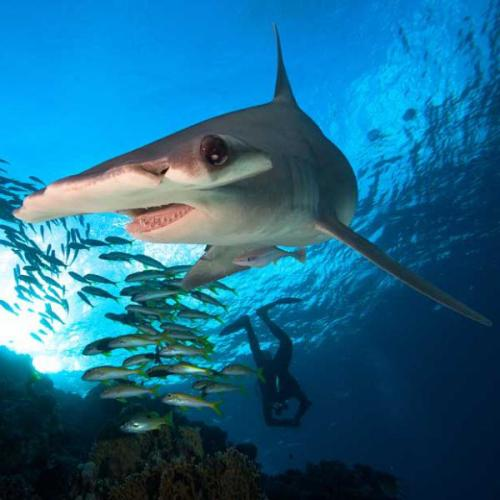shark-endangered: (10, 19, 492, 332)
